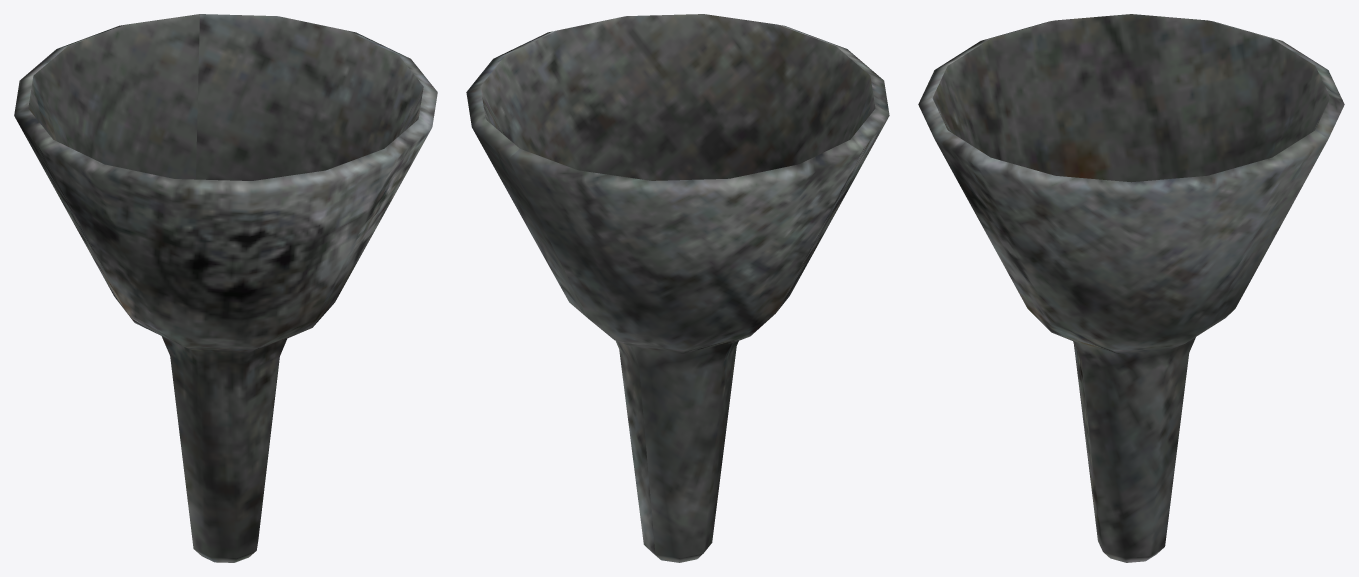
File: funnel.dae
3 renders of one model, left to right at view 1: azimuth 30°, elevation 25°; view 2: azimuth 150°, elevation 25°; view 3: azimuth 270°, elevation 25°, orthographic.
Visible parts, largest first — view 1: funnel_mesh; view 2: funnel_mesh; view 3: funnel_mesh.
Boxes of the visible parts, x1,y1,x2,y2 form: funnel_mesh: (14,14,437,562); funnel_mesh: (466,14,889,562); funnel_mesh: (918,14,1344,562).
Bounding box in the file's own units: 0.2127 × 0.25 × 0.2127.
